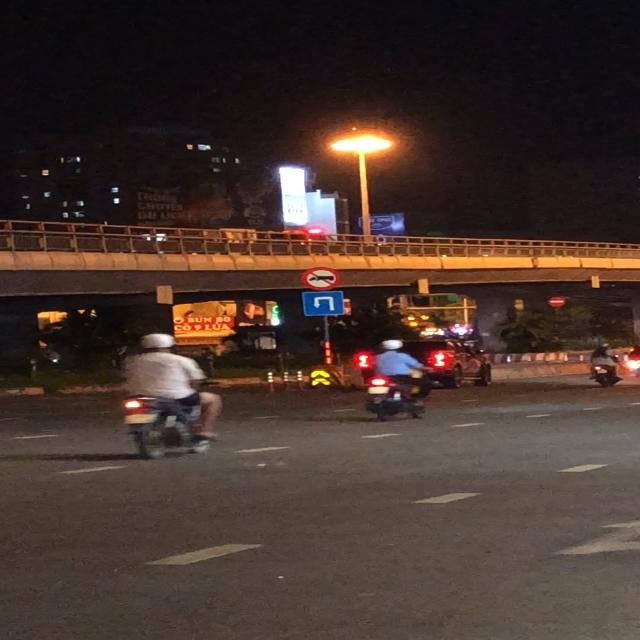Bien bao cam xe so-mi ro-mooc: (300, 267, 344, 291)
